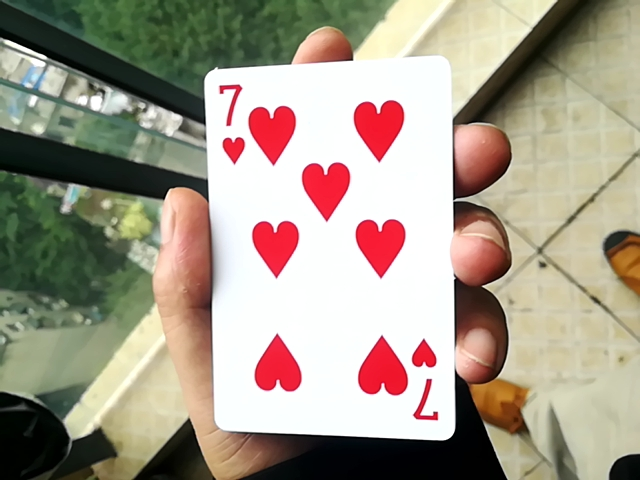hx 7: (196, 35, 453, 438)
